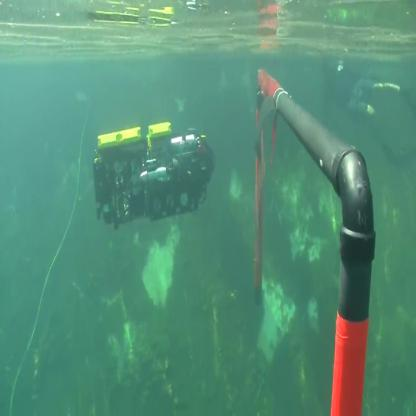gate: (253, 67, 379, 416)
